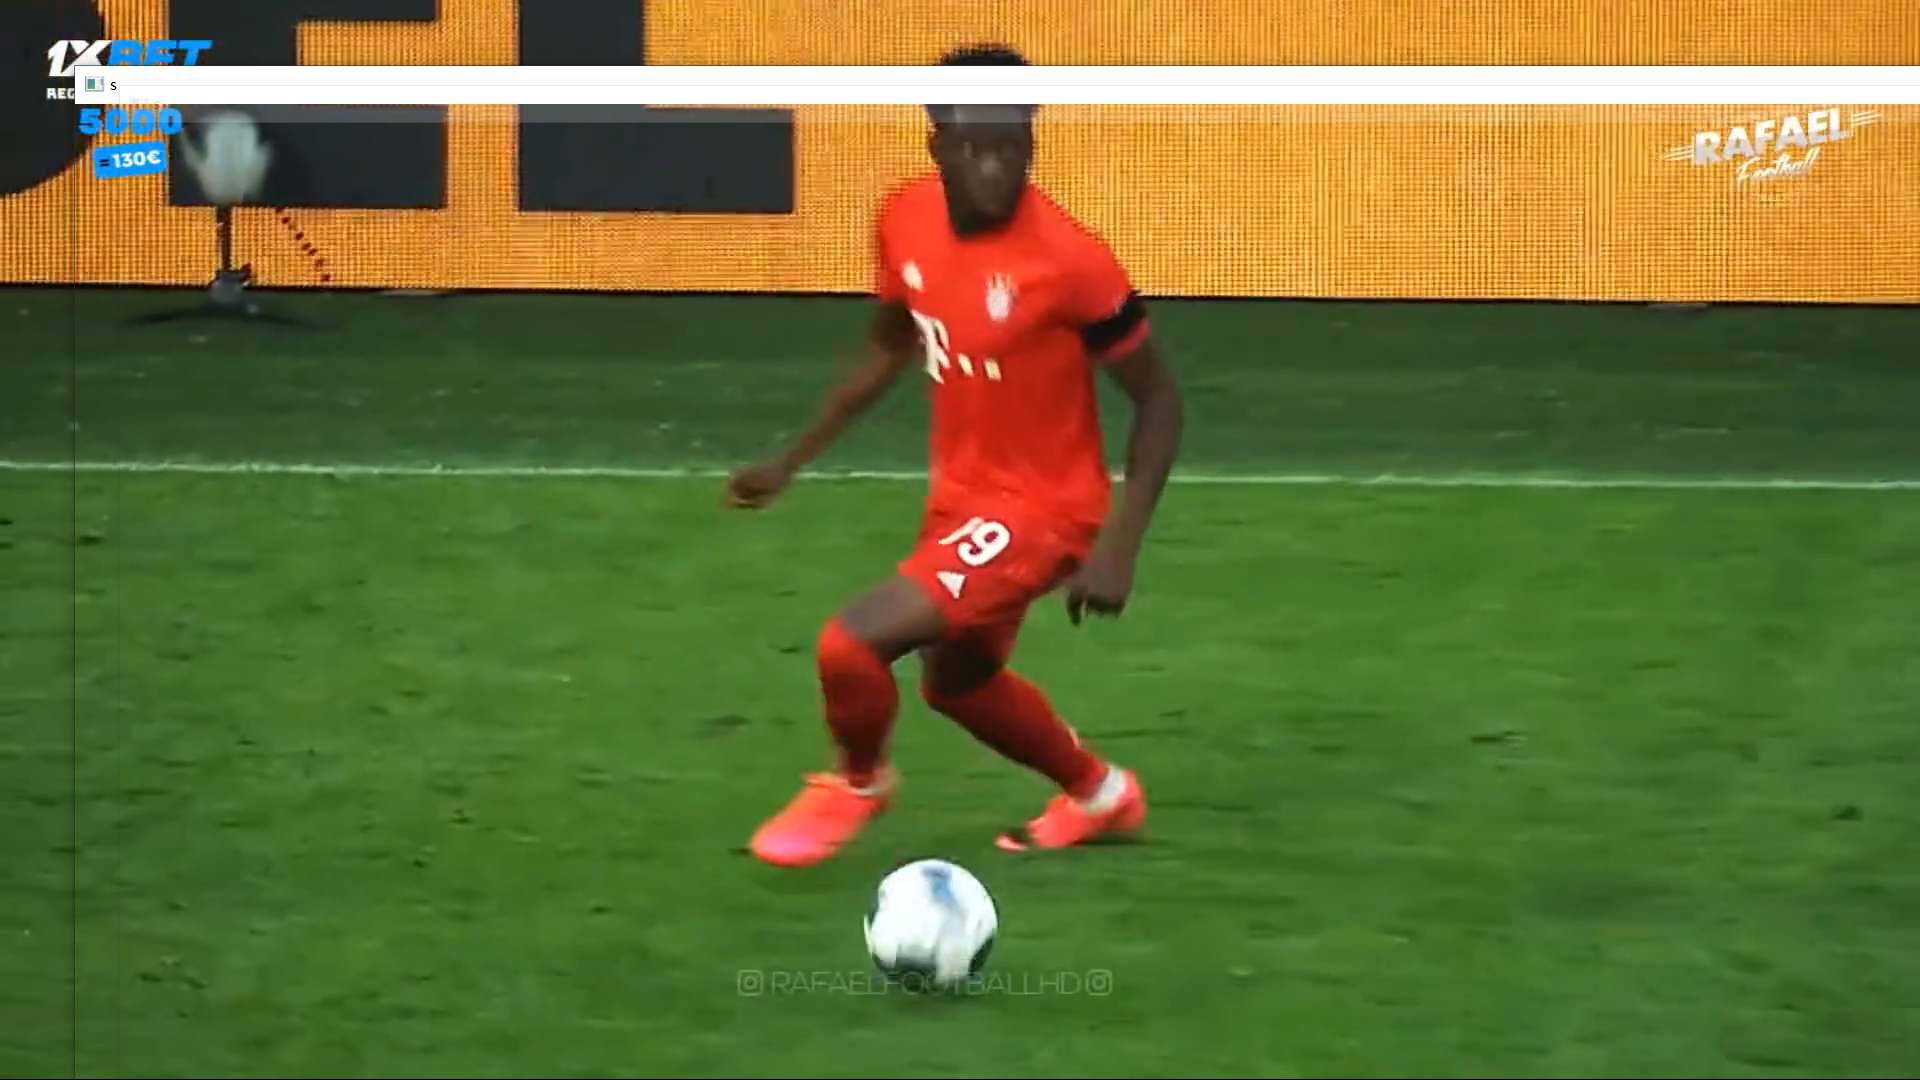ft: (857, 849, 1002, 998)
